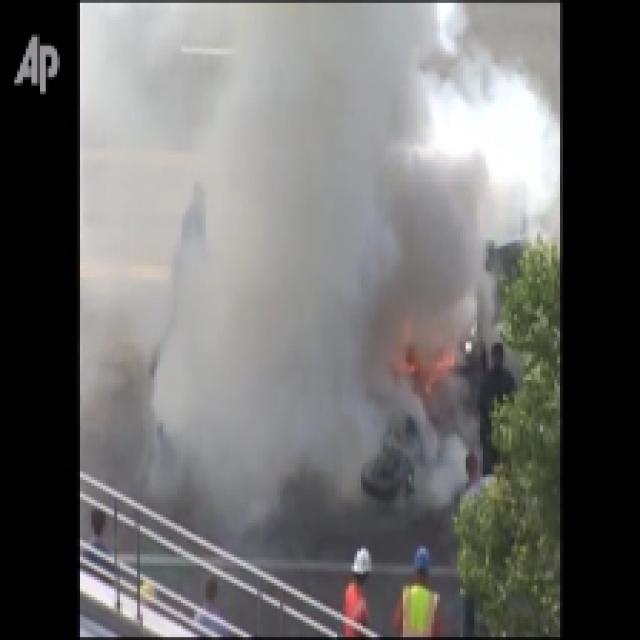smoke: (178, 38, 435, 492)
